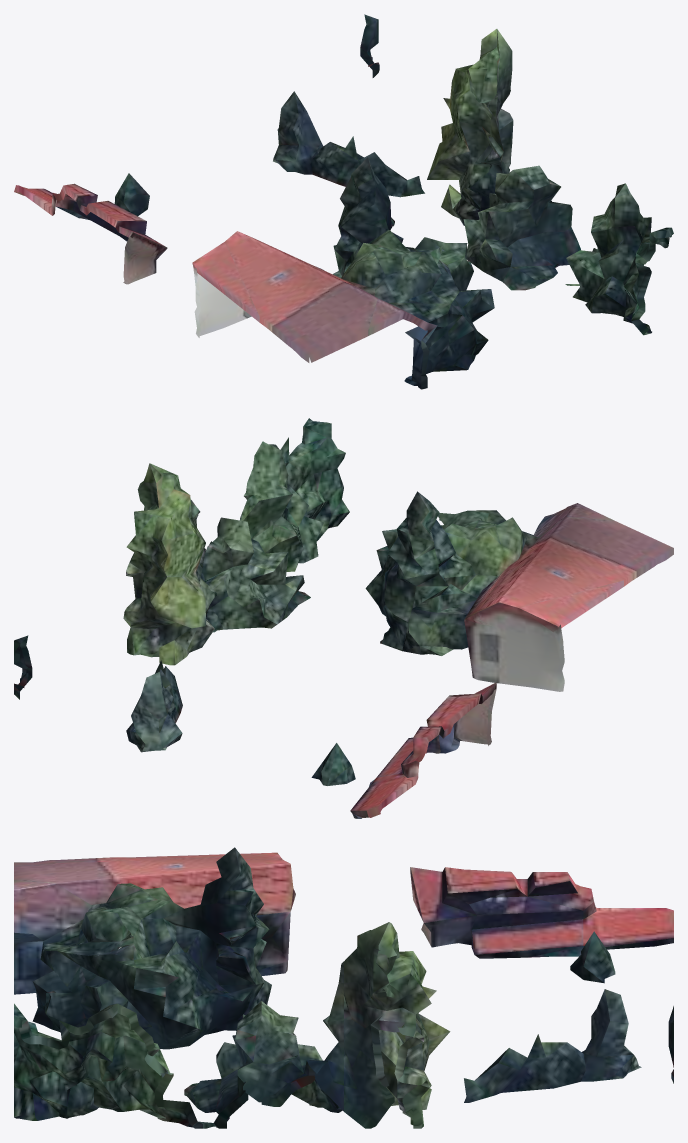
The picture shows the model from 3 angles, top to bottom: view 1: azimuth 30°, elevation 25°; view 2: azimuth 150°, elevation 25°; view 3: azimuth 270°, elevation 25°; orthographic projection. The views are drawn at different scales.
Parts seen in each view (by area): view 1: 30436272704361705437_0; view 2: 30436272704361705437_0; view 3: 30436272704361705437_0.
Part boxes in pixels (x1,y1,x2,y2): 30436272704361705437_0: (14, 14, 673, 389); 30436272704361705437_0: (14, 418, 673, 818); 30436272704361705437_0: (14, 847, 673, 1128).
Bounding box in the file's own units: 27.62 × 13.1 × 38.26.
1 material, 1 textured.
